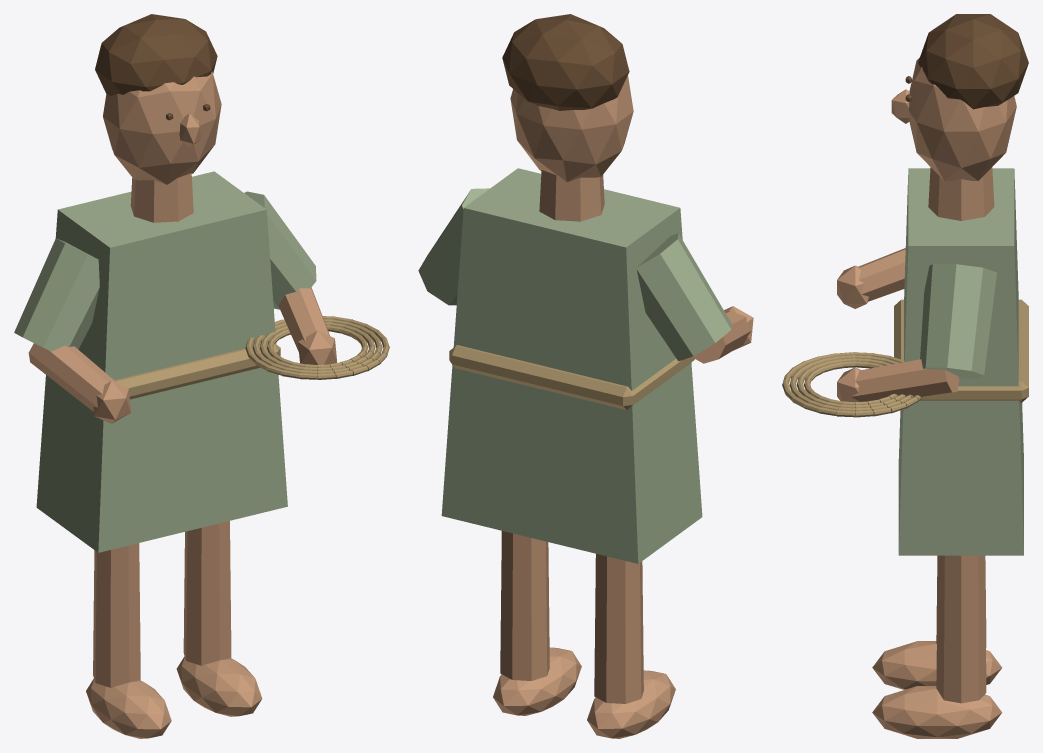
3 views of the same model, side by side, from view 1: azimuth 30°, elevation 25°; view 2: azimuth 150°, elevation 25°; view 3: azimuth 270°, elevation 25° (orthographic). The views are drawn at different scales.
Visible parts, largest first — view 1: CE-007 Coastal net and boat worker batched; view 2: CE-007 Coastal net and boat worker batched; view 3: CE-007 Coastal net and boat worker batched.
Part boxes in pixels (x1,y1,x2,y2): CE-007 Coastal net and boat worker batched: (14,14,389,738); CE-007 Coastal net and boat worker batched: (418,14,753,738); CE-007 Coastal net and boat worker batched: (782,14,1028,738).
Bounding box in the file's own units: 0.7577 × 1.59 × 0.5119.
